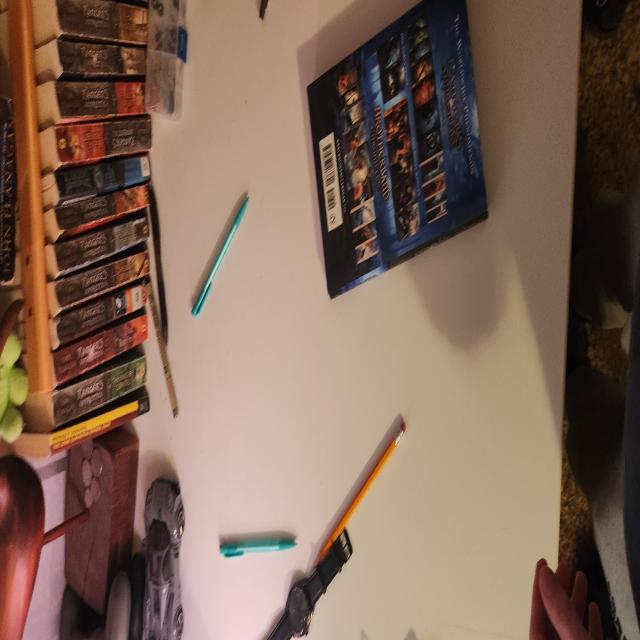Book: (304, 0, 489, 300)
Pen: (190, 192, 250, 320), (219, 534, 278, 562)
